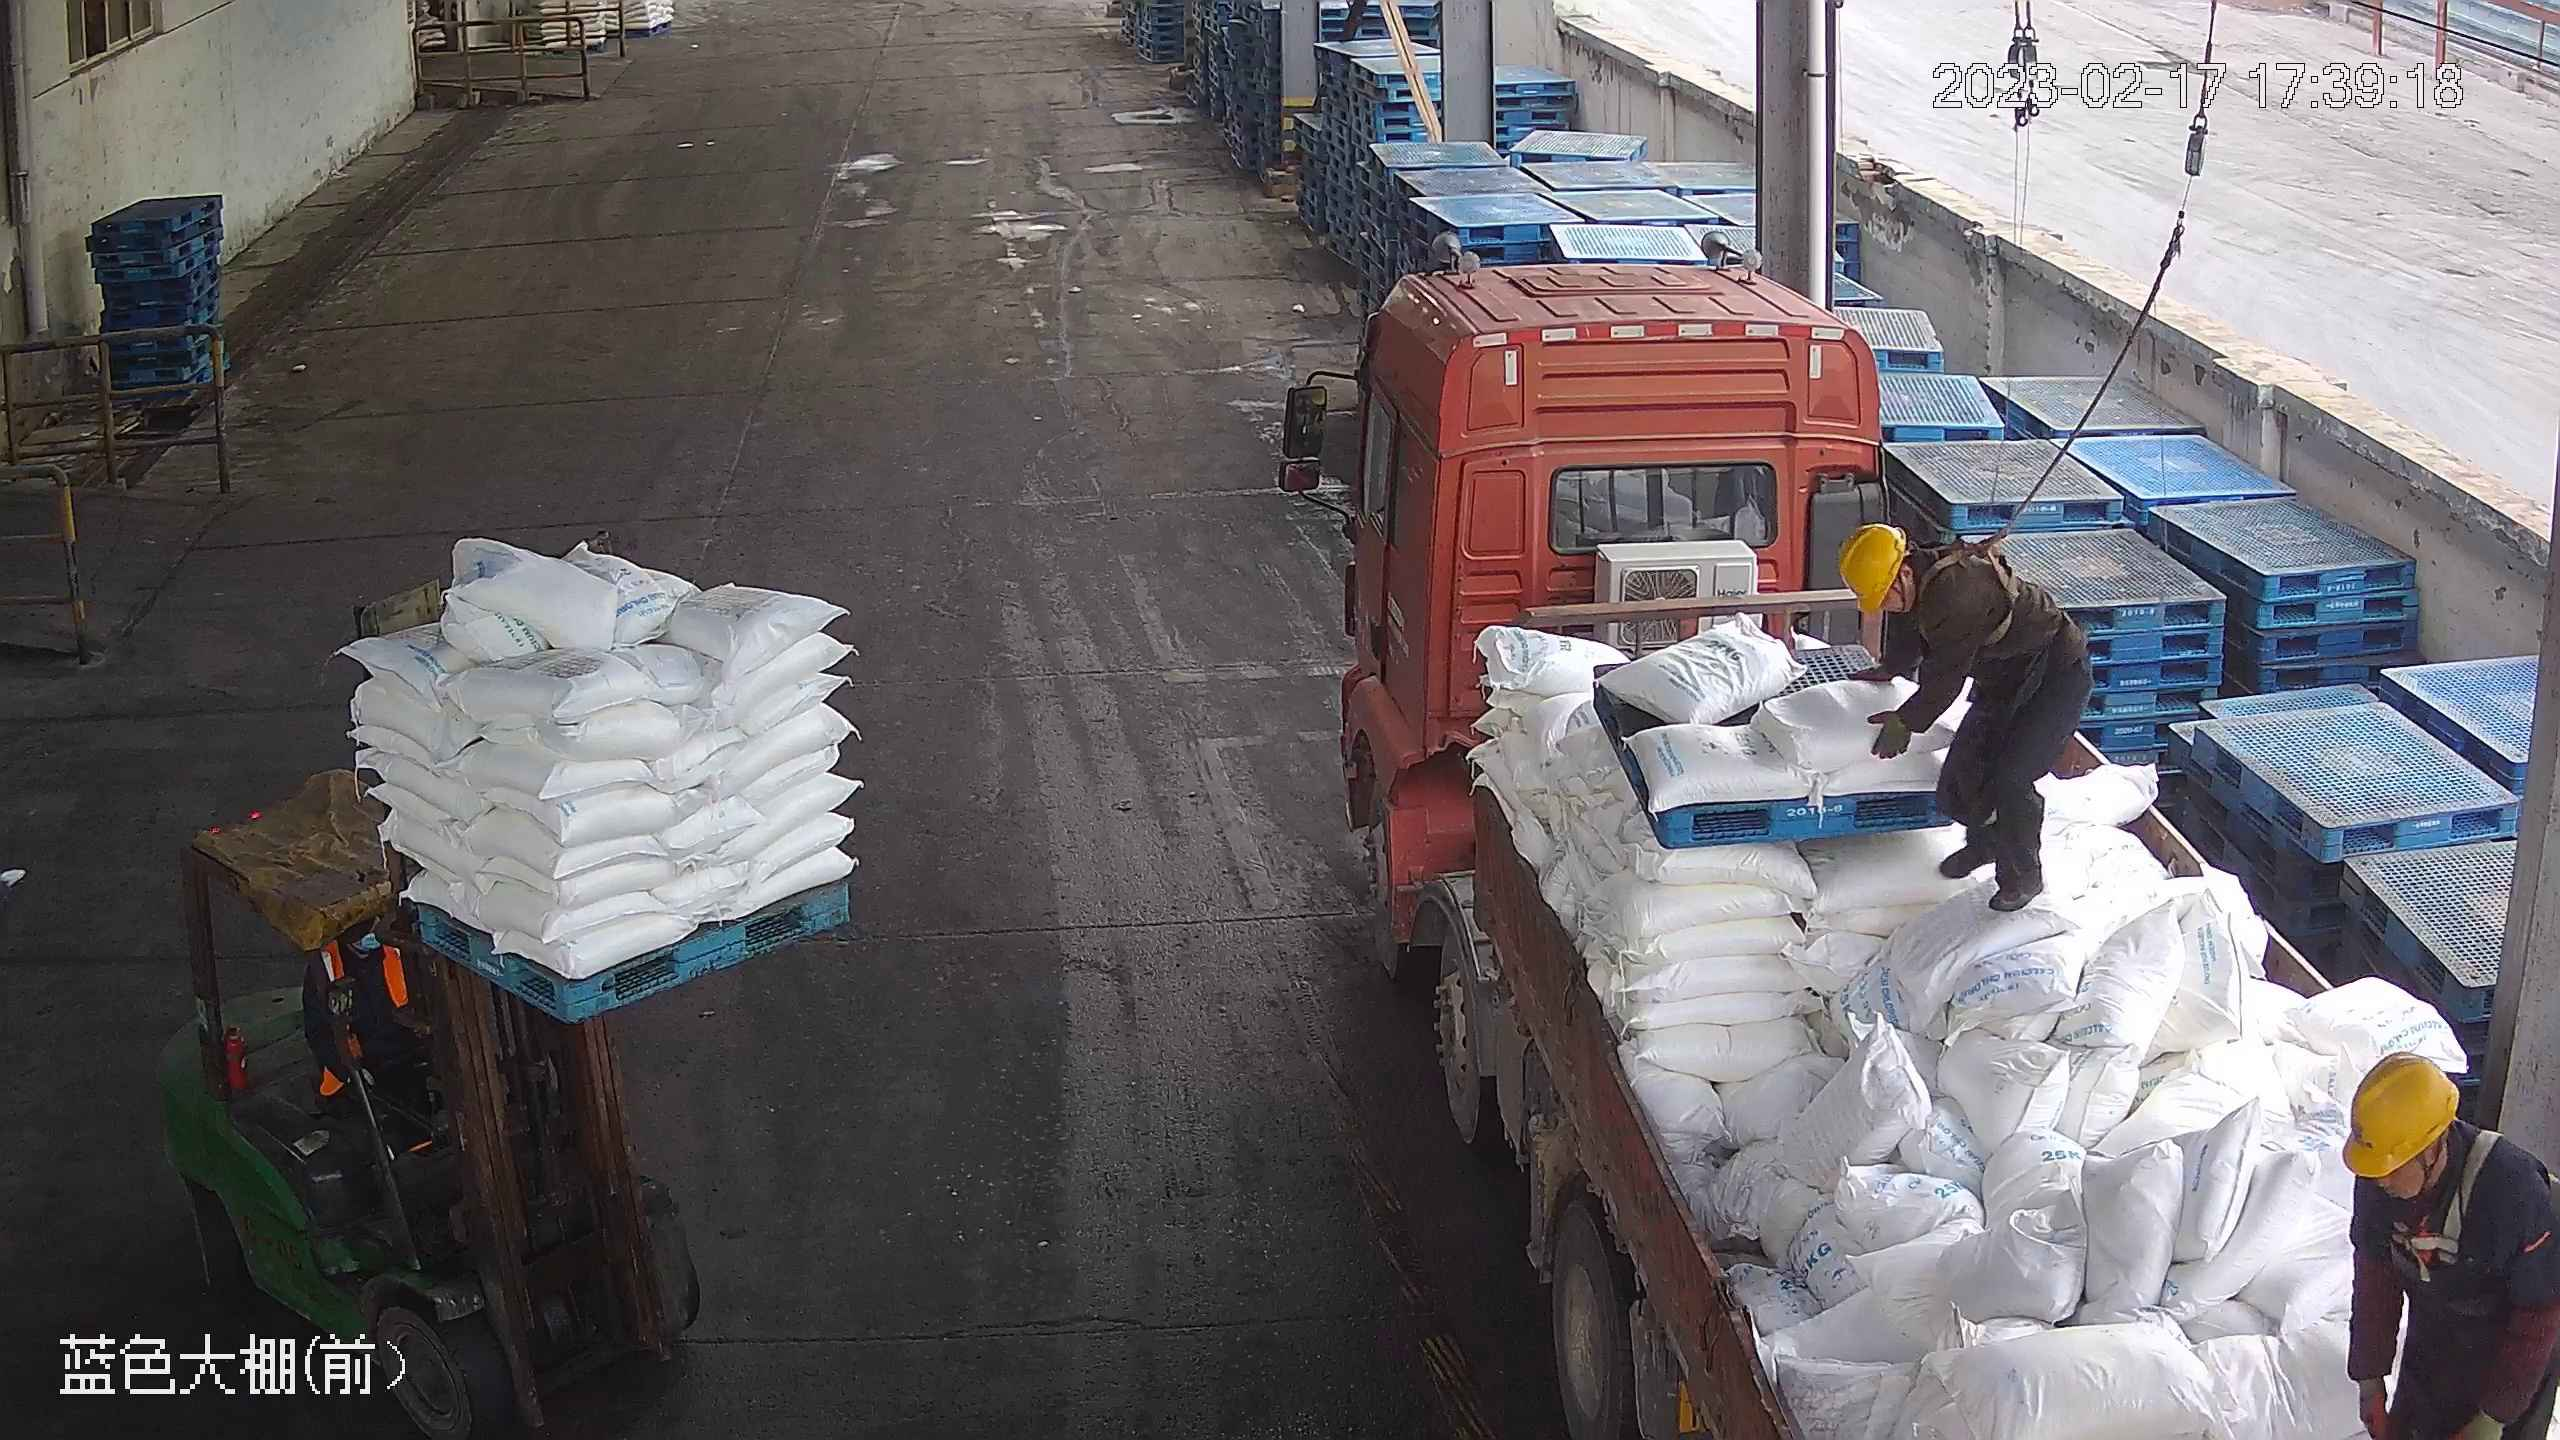belt: (2389, 1119, 2540, 1261), (1921, 525, 2031, 651)
head: (2337, 1052, 2554, 1264), (1839, 519, 1998, 659)
helmet: (2342, 1049, 2461, 1178), (1836, 520, 1905, 609)
people: (1841, 519, 2093, 920), (2335, 1036, 2560, 1440)
truck: (1280, 234, 2558, 1437)
